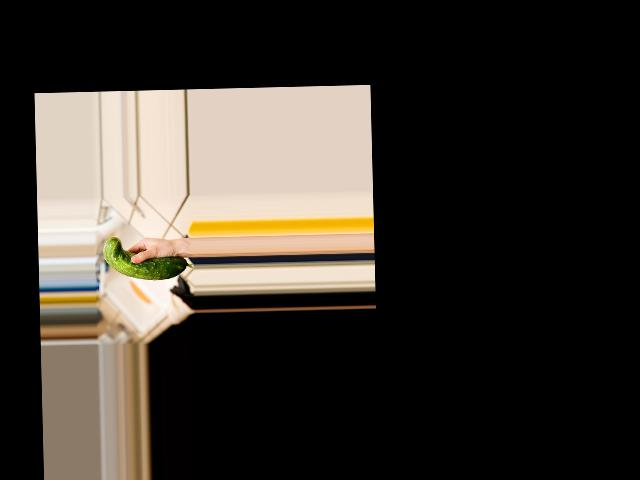cucumber: (103, 235, 193, 282)
